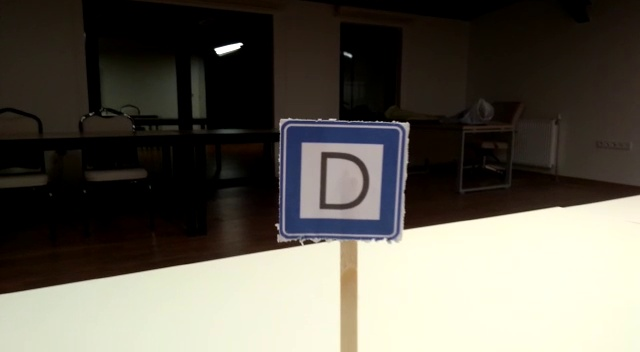durak: (280, 123, 406, 237)
